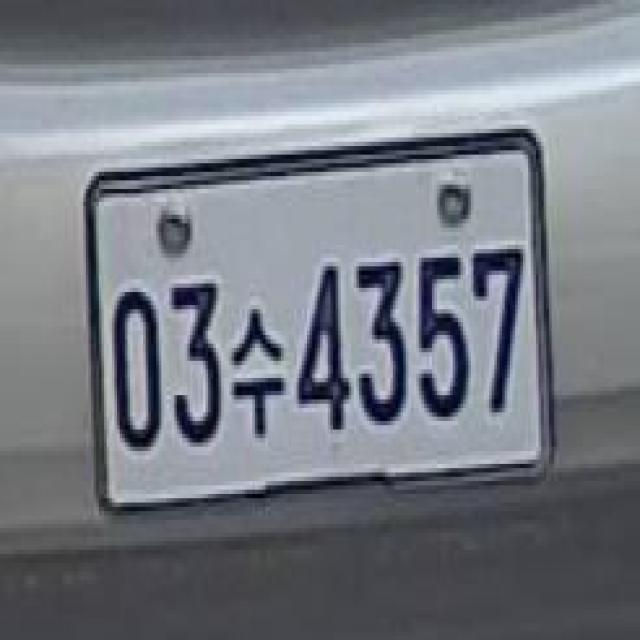illegal_plate: (82, 130, 555, 528)
